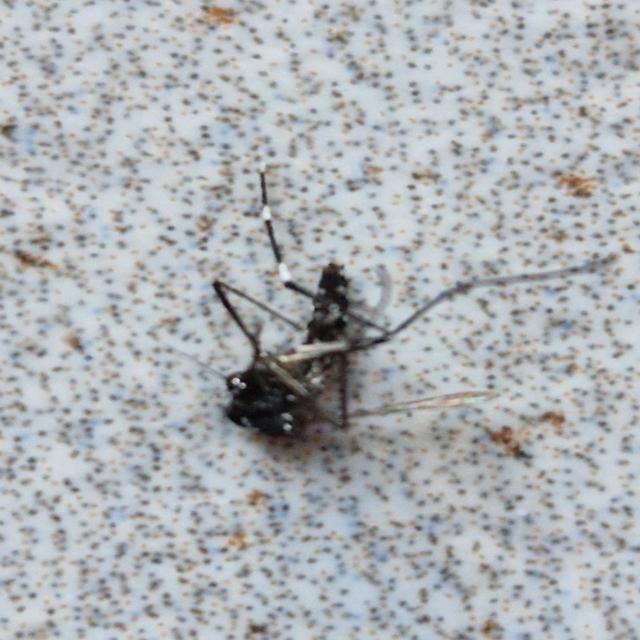albopictus: (175, 153, 478, 434)
